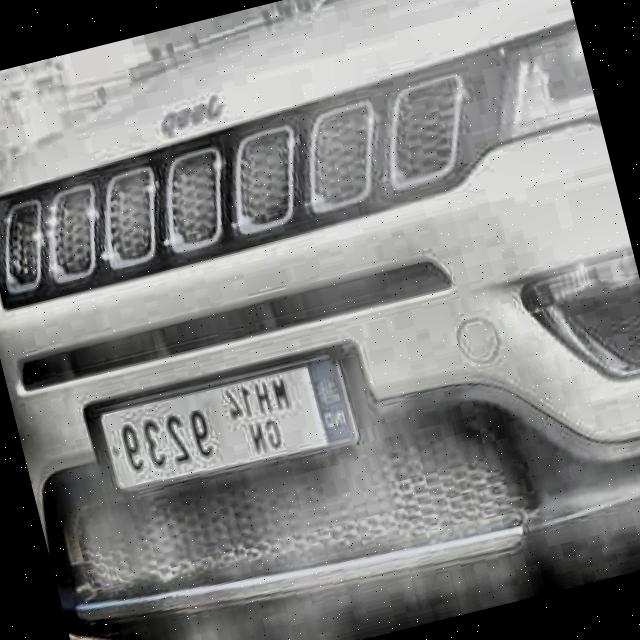license_plate: (105, 352, 358, 489)
